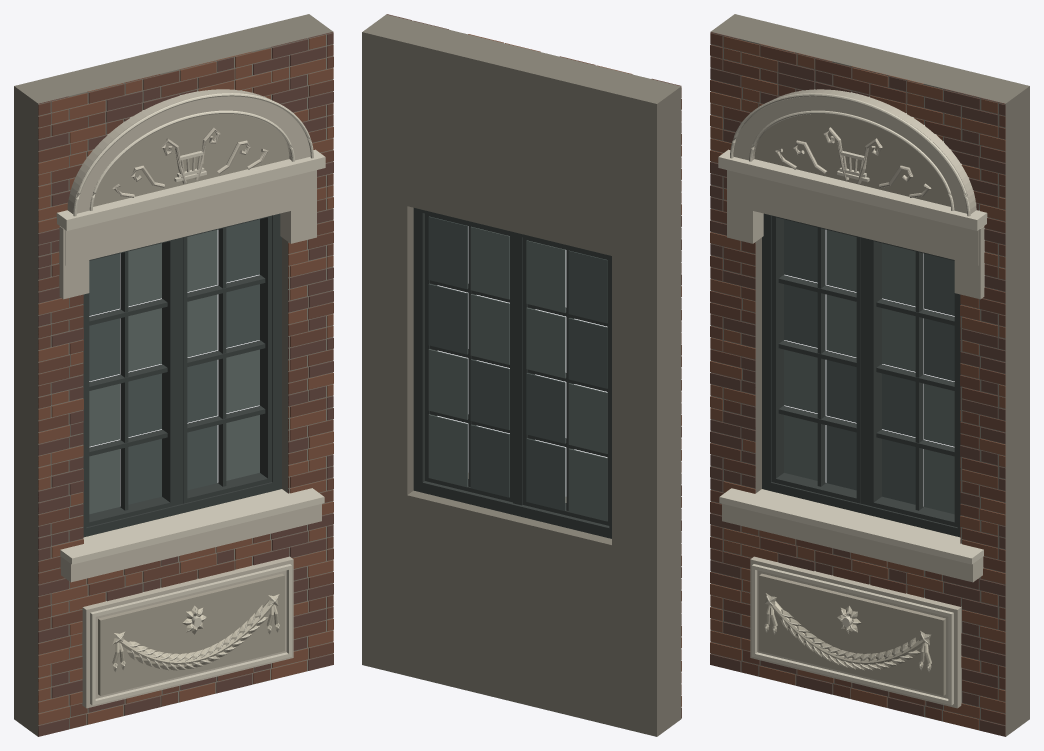
Rendered from xuhui-anting-apartments-garland-window-raw.glb.
3 views of the same model, side by side, from view 1: azimuth 30°, elevation 25°; view 2: azimuth 150°, elevation 25°; view 3: azimuth 330°, elevation 25° (orthographic).
Parts seen in each view (by area): view 1: 金司林公寓安亭路底层南窗与垂花饰板; view 2: 金司林公寓安亭路底层南窗与垂花饰板; view 3: 金司林公寓安亭路底层南窗与垂花饰板.
Boxes of the visible parts, x1=… form: 金司林公寓安亭路底层南窗与垂花饰板: x1=14, y1=14, x2=333, y2=736; 金司林公寓安亭路底层南窗与垂花饰板: x1=362, y1=14, x2=681, y2=736; 金司林公寓安亭路底层南窗与垂花饰板: x1=710, y1=14, x2=1029, y2=736.
Bounding box in the file's own units: 1.74 × 3.57 × 0.375.
